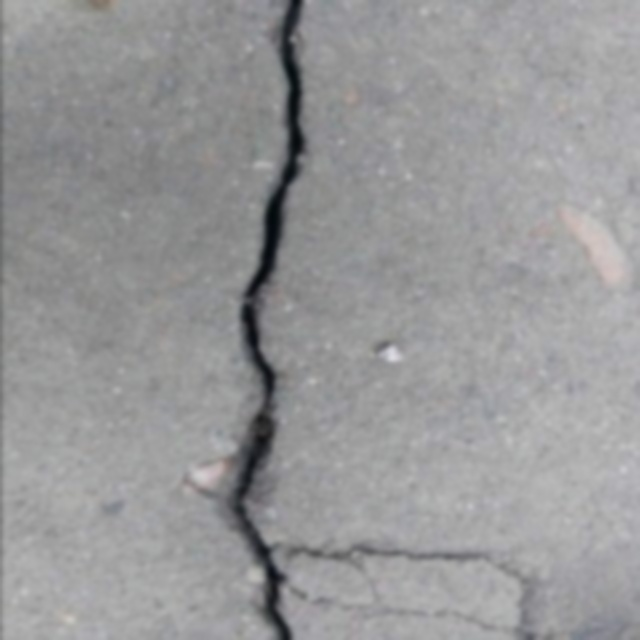SurfaceCrack: (180, 0, 358, 640), (246, 520, 562, 640)
